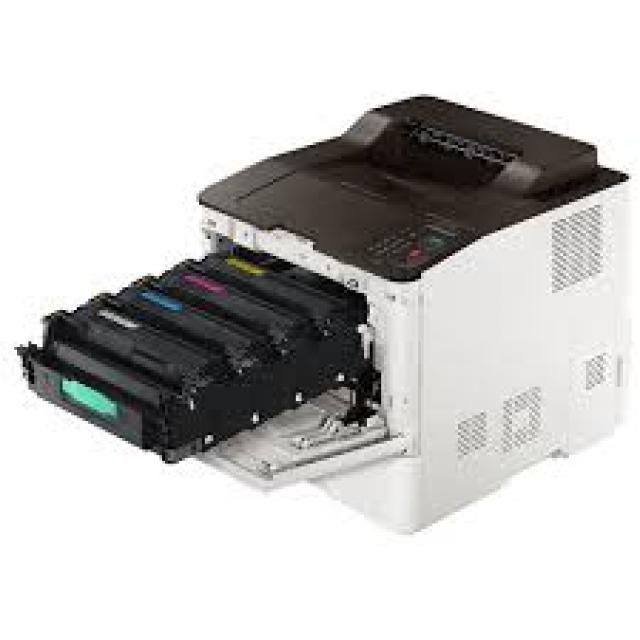printer: (18, 92, 637, 538)
